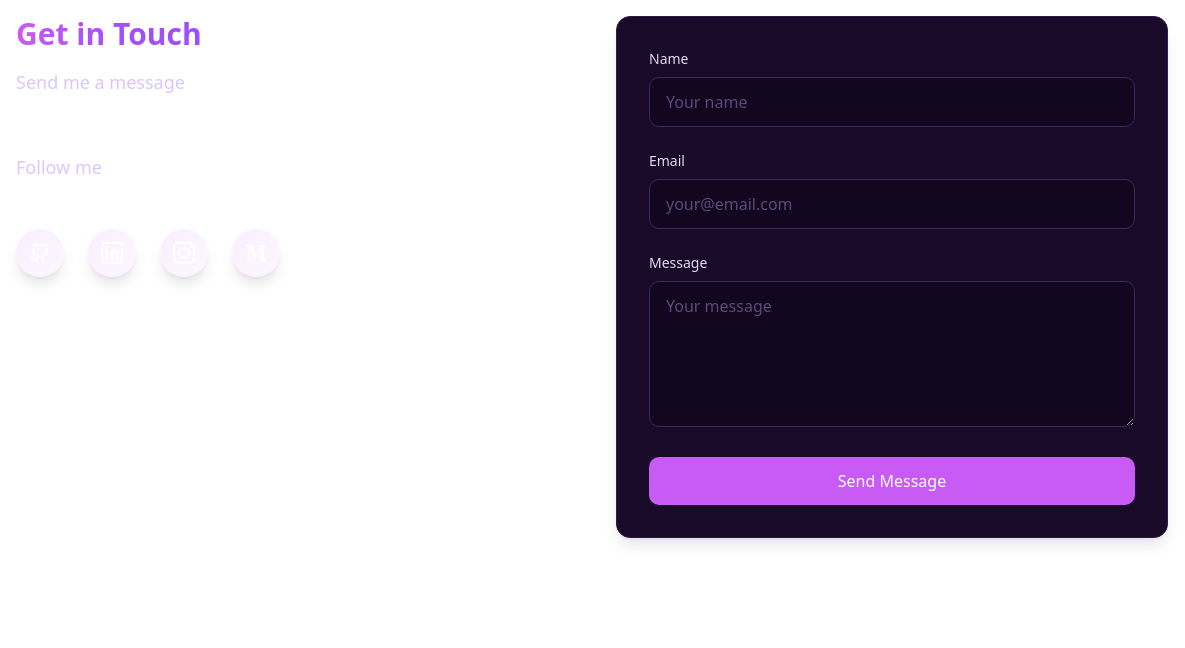
Test: ContactForm › form validation › shows error when name is too short
The image size is (1185, 648).
Type "ab" into the field labelled "Name" at [892, 102], box [649,77,1135,127]
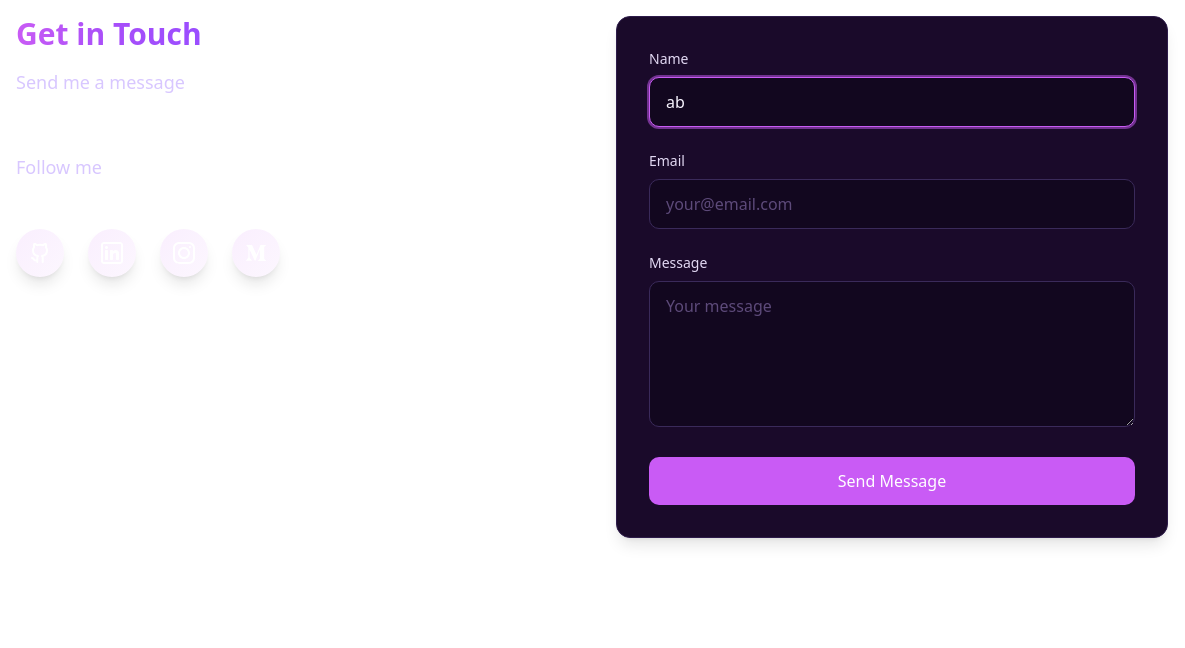
Click the button "Send Message" at [892, 481], box [649,457,1135,505]
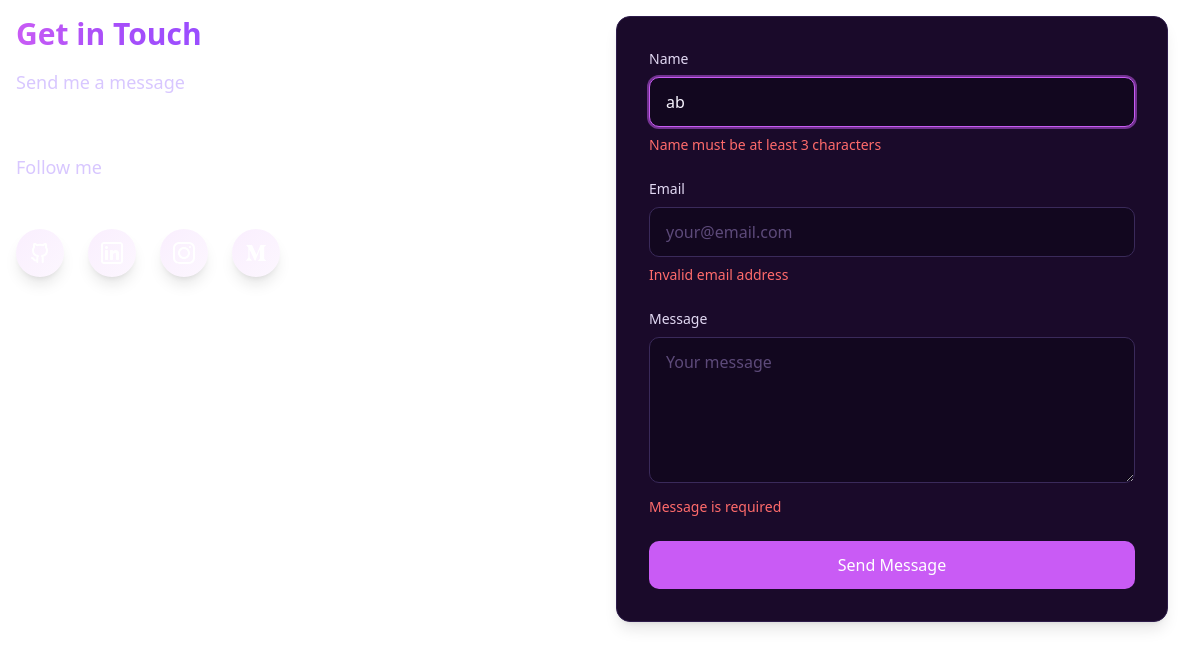
Result: the text "Name must be at least 3 characters" is shown at [649,135,881,154]
